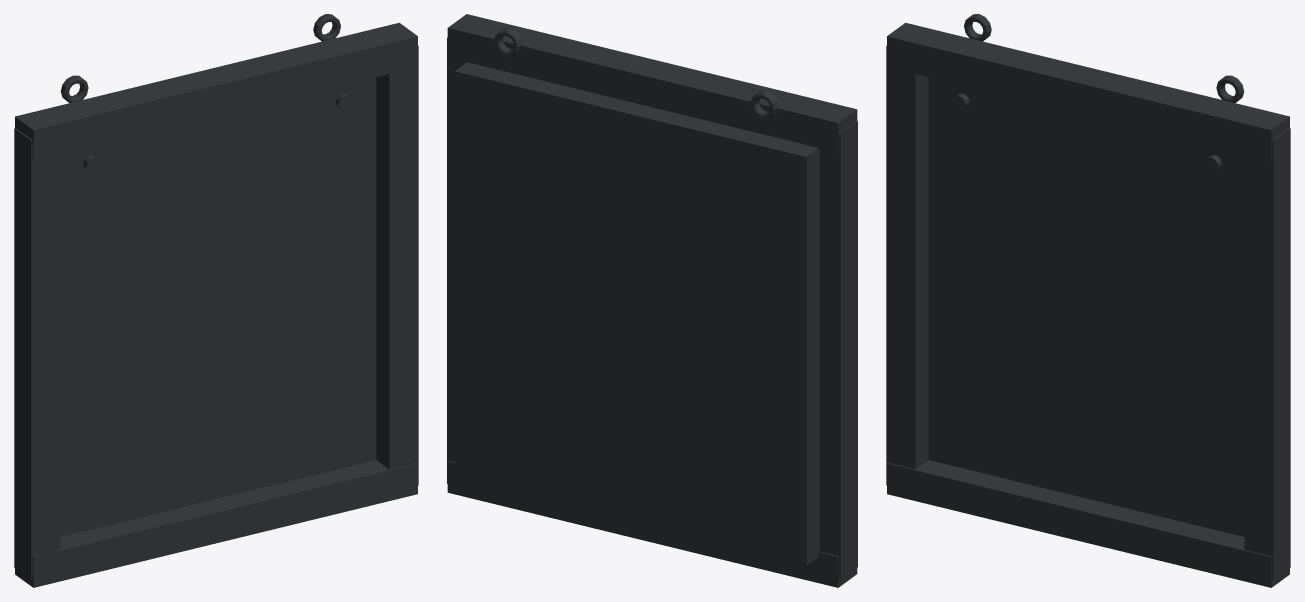
The model's file is JOB_BOARD.shadow.glb.
3 renders of one model, left to right at view 1: azimuth 30°, elevation 25°; view 2: azimuth 150°, elevation 25°; view 3: azimuth 330°, elevation 25°, orthographic.
Visible parts, largest first — view 1: Body_Mesh; view 2: Body_Mesh; view 3: Body_Mesh.
Part boxes in pixels (bbox=[...]): Body_Mesh: bbox=[14, 14, 418, 587]; Body_Mesh: bbox=[447, 14, 857, 587]; Body_Mesh: bbox=[886, 14, 1290, 587].
Bounding box in the file's own units: 1.32 × 1.55 × 0.182.
Materials: 1 (1 with a texture image).
